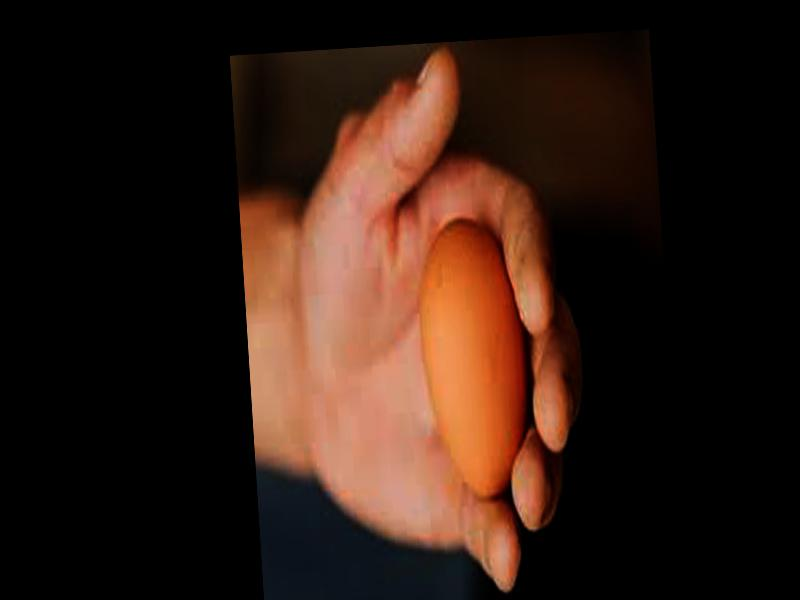Eggs: (415, 219, 531, 503)
